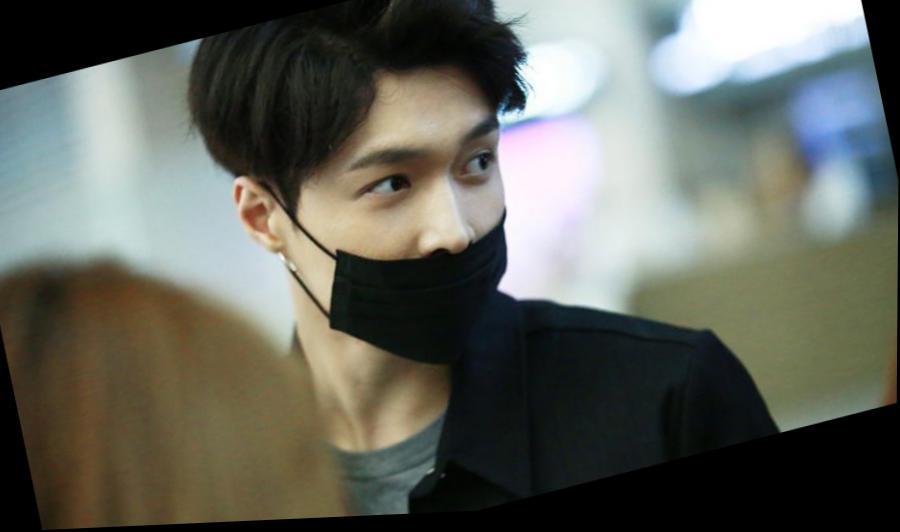WRONG: (299, 100, 550, 393)
